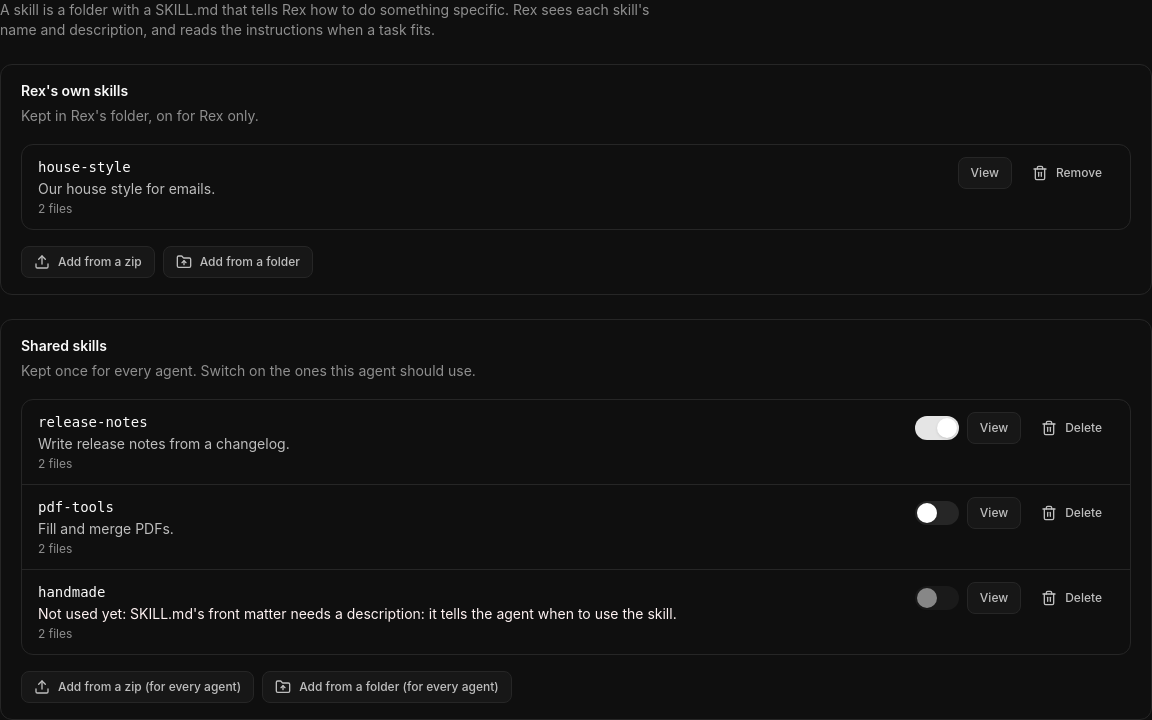
Test: the Skills tab › views a skill: its instructions, then a file when picked
Click the button with aria-label "View release-notes" at [994, 428], box [967,412,1021,444]
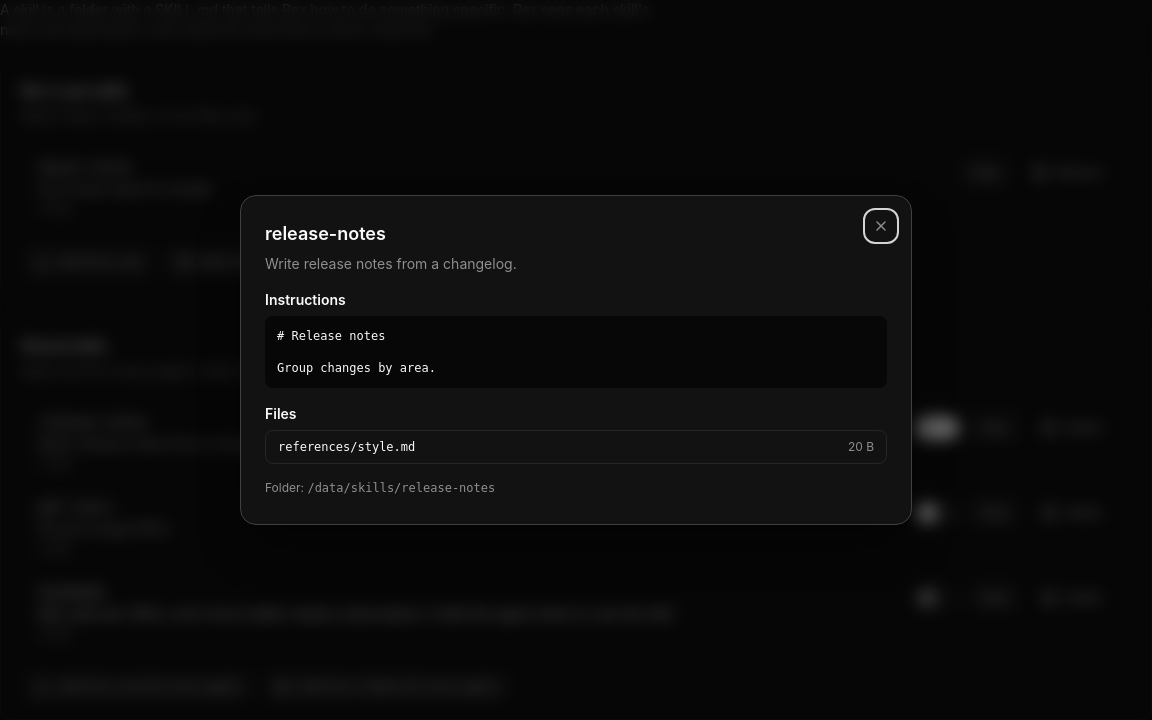
Expected: the dialog shows "Group changes by area.", [277,329,436,375]
Expected: the dialog shows "/data/skills/release-notes", [307,481,495,495]
Expected: the dialog shows "references/style.md"
Click the button "references/style.md 20 B" at [347, 447], box [266,431,886,463]
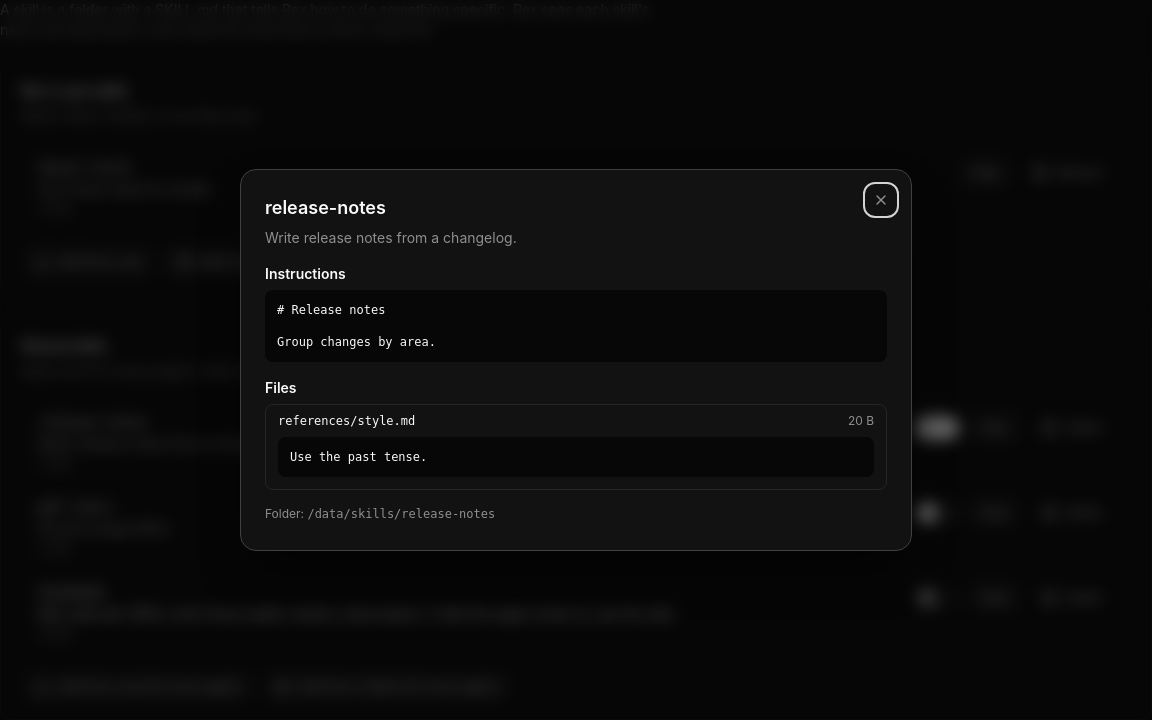
Expected: the dialog shows "Use the past tense.", [290,450,427,464]
